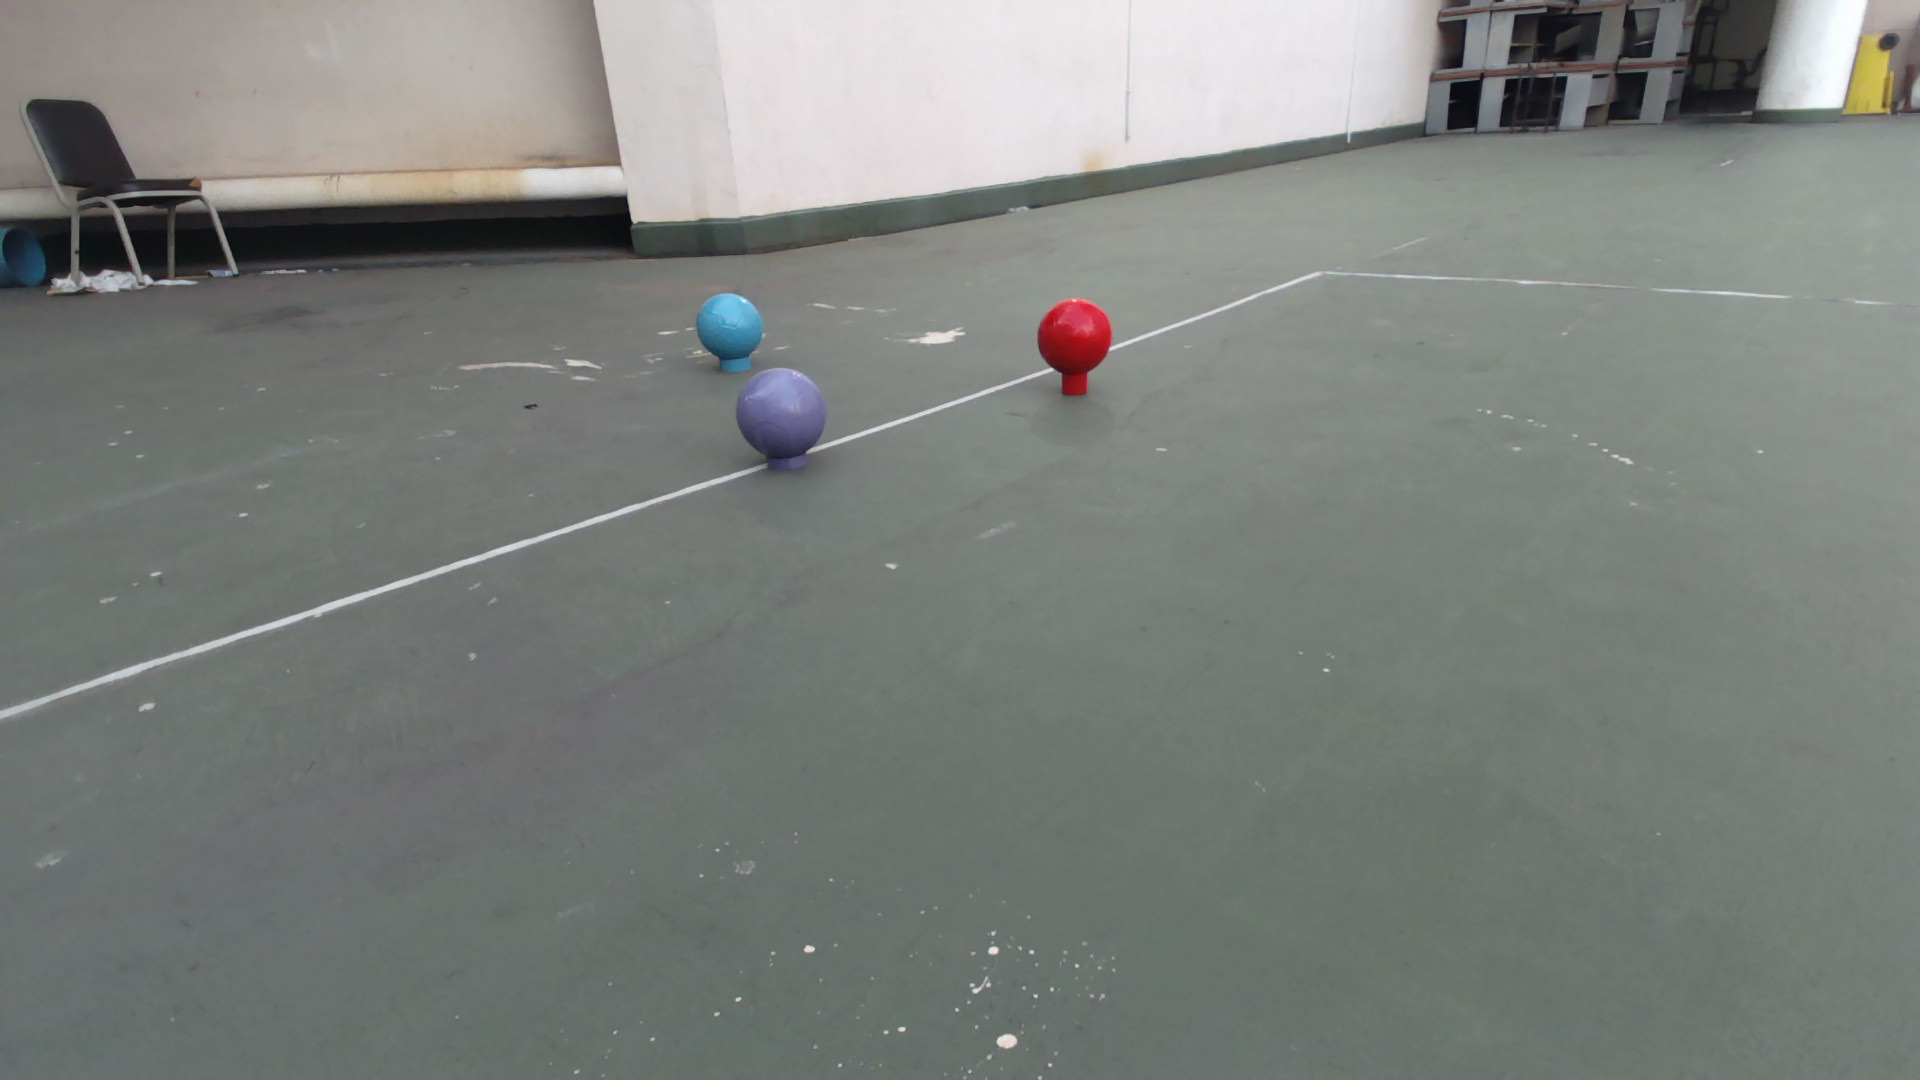Blue ball: (692, 291, 764, 361)
Purple ball: (735, 367, 828, 460)
Red ball: (1036, 297, 1114, 375)
